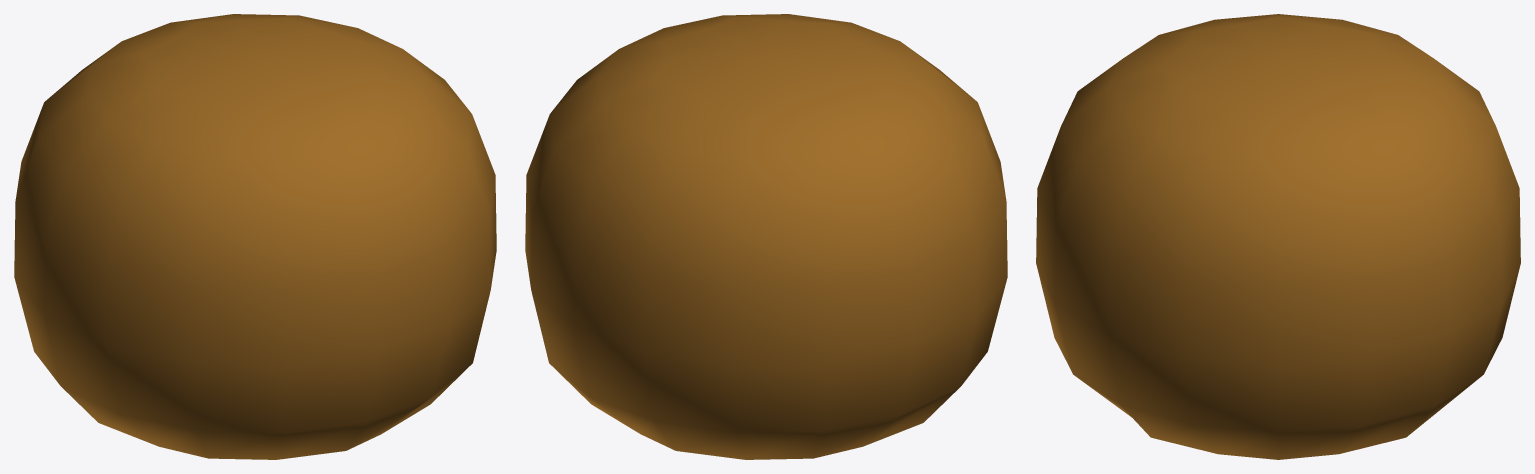
Rendered from chest.glb.
The picture shows the model from 3 angles, left to right: view 1: azimuth 30°, elevation 25°; view 2: azimuth 150°, elevation 25°; view 3: azimuth 270°, elevation 25°; orthographic projection.
Visible parts, largest first — view 1: Chest; view 2: Chest; view 3: Chest.
Boxes of the visible parts, x1,y1,x2,y2 form: Chest: (14,14,496,459); Chest: (525,14,1007,459); Chest: (1036,14,1520,459).
Bounding box in the file's own units: 0.5895 × 0.4833 × 0.5895.
1 material, 1 textured.
